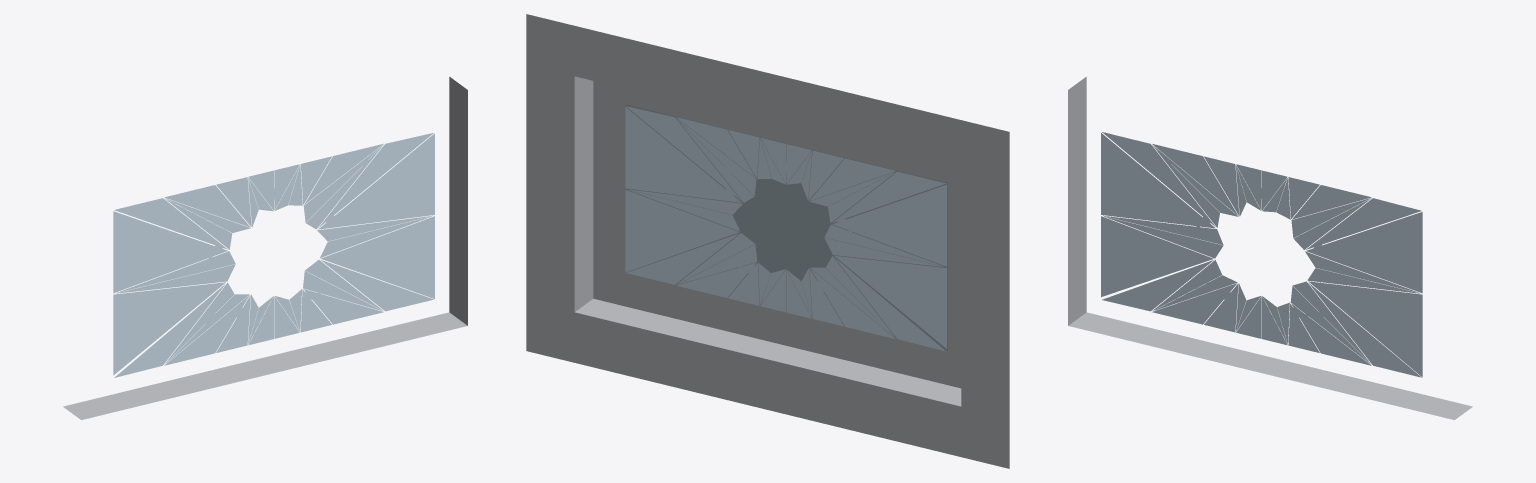
Rendered from WindowBroken.gltf.
3 views of the same model, side by side, from view 1: azimuth 30°, elevation 25°; view 2: azimuth 150°, elevation 25°; view 3: azimuth 330°, elevation 25° (orthographic).
Visible parts, largest first — view 1: house_type02.001, house_type02.002; view 2: house_type02.002, house_type02.001; view 3: house_type02.001, house_type02.002.
Boxes of the visible parts, box(x1,y1,x2,y2) form: house_type02.001: box(113, 133, 434, 377); house_type02.002: box(63, 76, 467, 419); house_type02.002: box(526, 14, 1009, 468); house_type02.001: box(625, 106, 946, 351); house_type02.001: box(1101, 132, 1422, 377); house_type02.002: box(1068, 76, 1472, 419).
Size of the model in its own units: 0.3 by 0.2 by 0.02.
